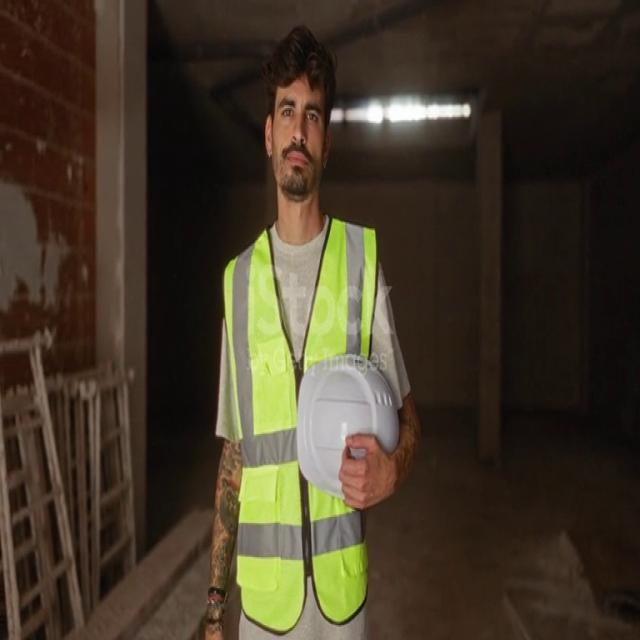sem_capacete: (250, 12, 347, 246)
